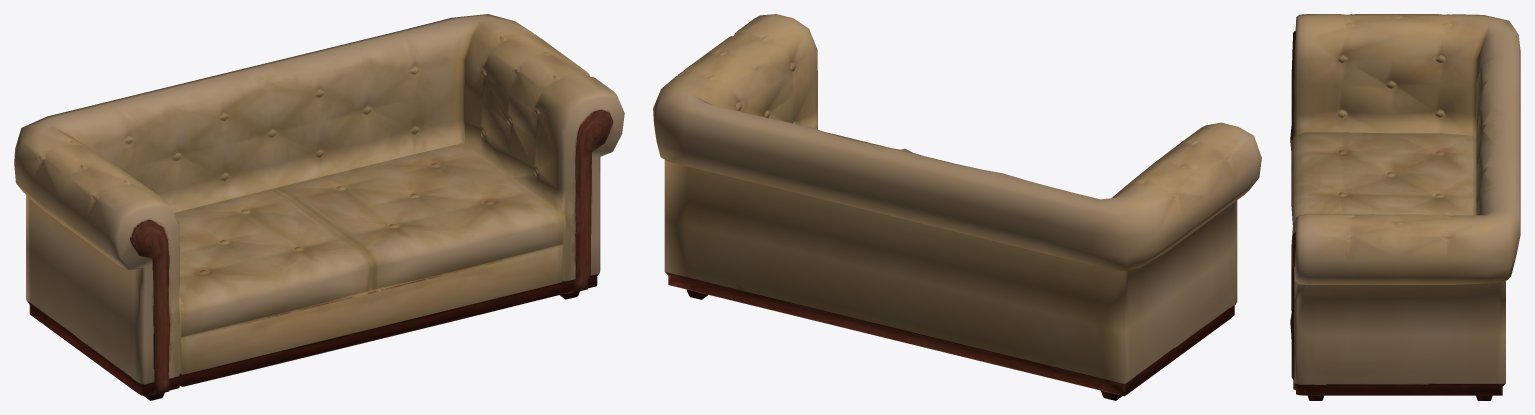
Rendered from Sofa OK.fbx.
The picture shows the model from 3 angles, left to right: view 1: azimuth 30°, elevation 25°; view 2: azimuth 150°, elevation 25°; view 3: azimuth 270°, elevation 25°; orthographic projection. The views are drawn at different scales.
Parts seen in each view (by area): view 1: LR sofa; view 2: LR sofa; view 3: LR sofa.
Boxes of the visible parts, x1,y1,x2,y2 form: LR sofa: (14,14,624,400); LR sofa: (653,14,1261,400); LR sofa: (1290,14,1520,400).
Size of the model in its own units: 2930 by 1117 by 1250.
Materials: 1 (1 with a texture image).
